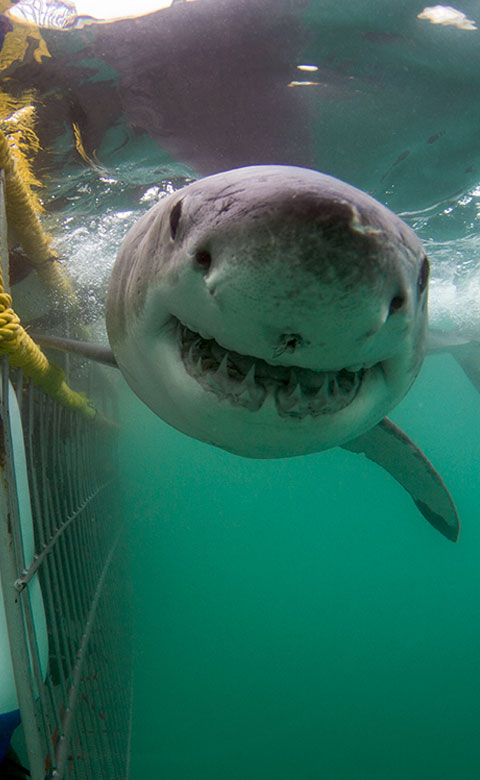shark: (9, 156, 480, 548)
